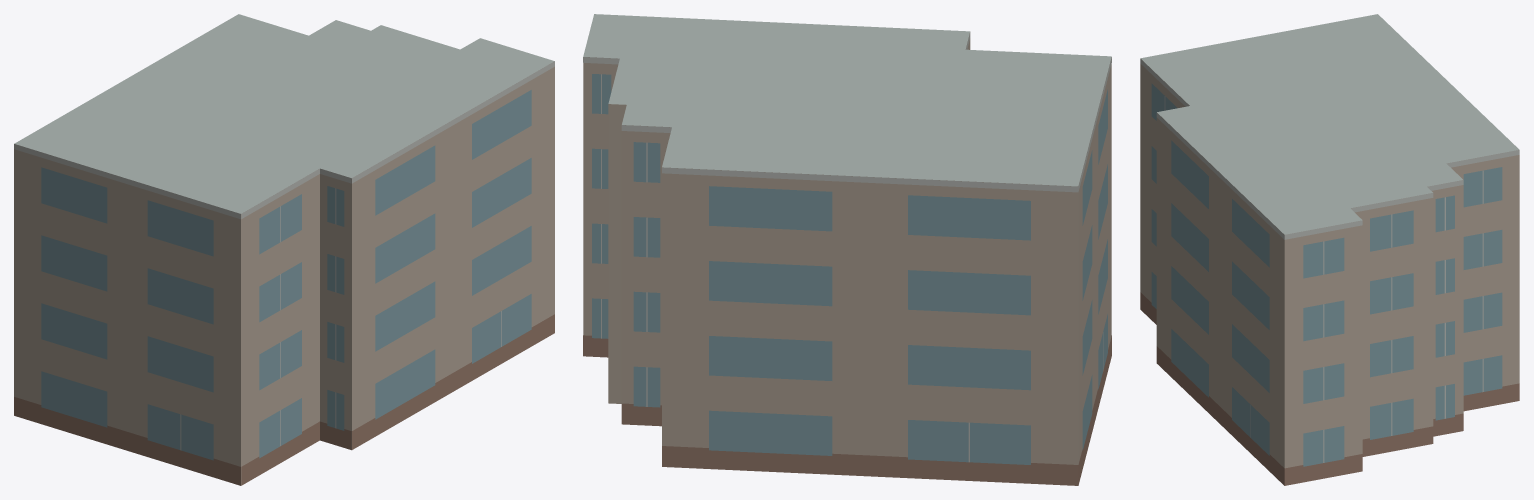
The model's file is residential-7aa14e0e-ddad-4312-98d5-5afd9cc91e1b.glb.
3 views of the same model, side by side, from view 1: azimuth 30°, elevation 25°; view 2: azimuth 150°, elevation 25°; view 3: azimuth 270°, elevation 25° (orthographic). The views are drawn at different scales.
Parts seen in each view (by area): view 1: residential-7aa14e0e-ddad-4312-98d5-5afd9cc91e1b.tmp; view 2: residential-7aa14e0e-ddad-4312-98d5-5afd9cc91e1b.tmp; view 3: residential-7aa14e0e-ddad-4312-98d5-5afd9cc91e1b.tmp.
Boxes of the visible parts, left/top/right/bottom form: residential-7aa14e0e-ddad-4312-98d5-5afd9cc91e1b.tmp: left=14, top=14, right=554, bottom=485; residential-7aa14e0e-ddad-4312-98d5-5afd9cc91e1b.tmp: left=583, top=14, right=1111, bottom=485; residential-7aa14e0e-ddad-4312-98d5-5afd9cc91e1b.tmp: left=1140, top=14, right=1519, bottom=485.
Bounding box in the file's own units: 23.03 × 12.2 × 16.72.
